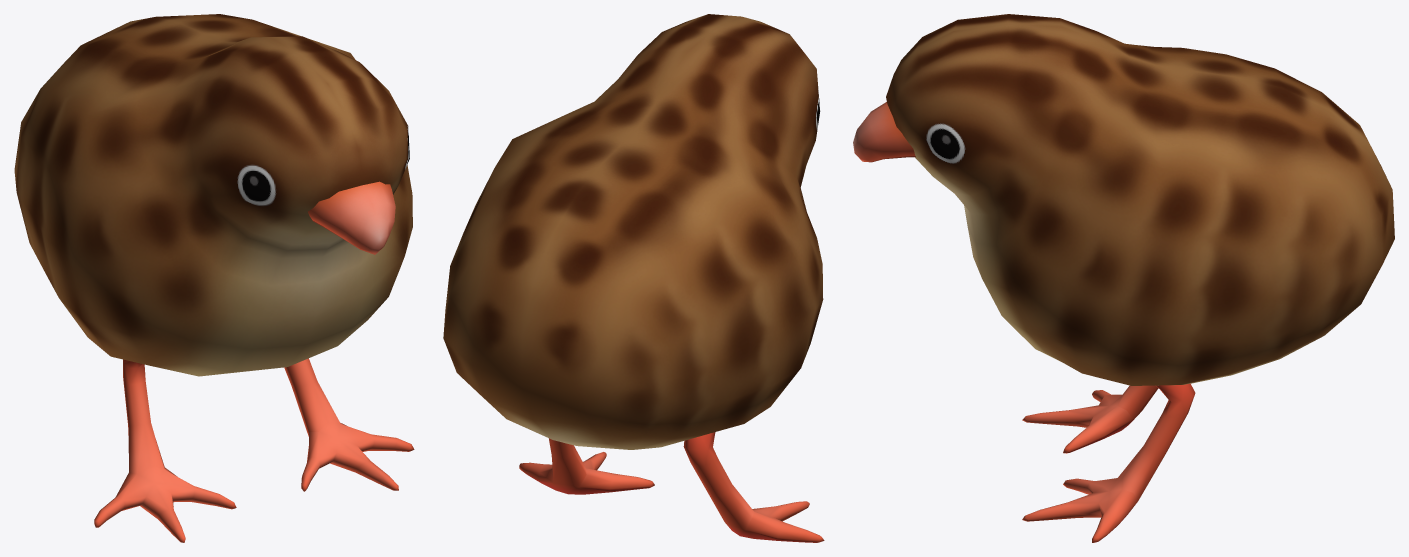
Rendered from quail.FBX.
The picture shows the model from 3 angles, left to right: view 1: azimuth 30°, elevation 25°; view 2: azimuth 150°, elevation 25°; view 3: azimuth 270°, elevation 25°; orthographic projection. The views are drawn at different scales.
Visible parts, largest first — view 1: quail; view 2: quail; view 3: quail.
Boxes of the visible parts, left/top/right/bottom form: quail: left=14, top=14, right=414, bottom=542; quail: left=443, top=14, right=824, bottom=542; quail: left=853, top=14, right=1394, bottom=542.
Bounding box in the file's own units: 24.36 × 32.85 × 36.01.
